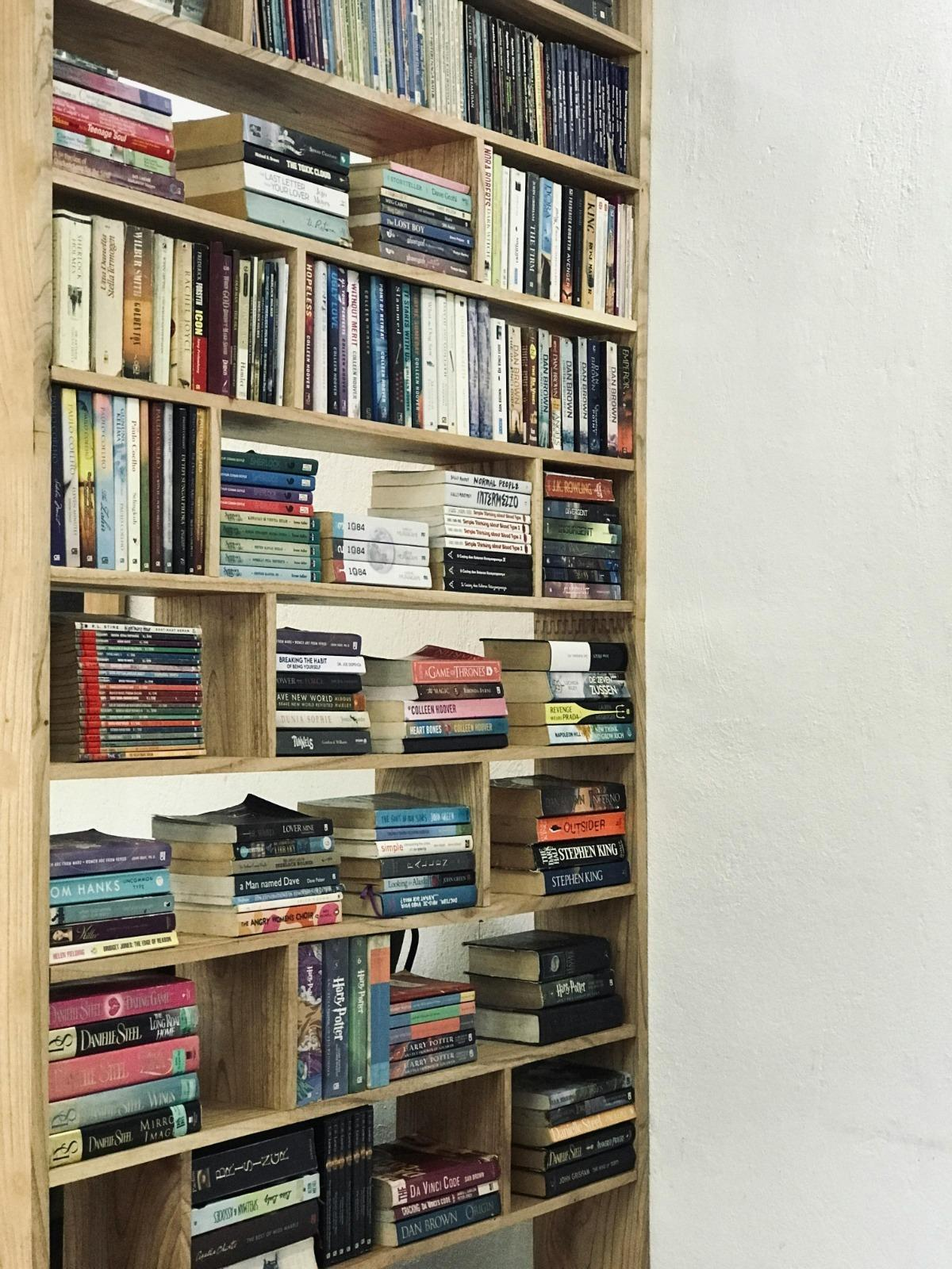book: (46, 1007, 197, 1063), (51, 212, 93, 372), (233, 115, 349, 172), (240, 159, 354, 215), (467, 970, 615, 1012), (464, 942, 611, 983), (154, 825, 335, 858), (303, 796, 470, 830), (90, 216, 125, 376), (174, 867, 342, 900), (370, 469, 531, 502), (293, 941, 324, 1109), (121, 224, 153, 380), (48, 869, 176, 905), (321, 936, 349, 1100), (57, 390, 80, 563), (75, 394, 98, 565), (368, 934, 393, 1090), (207, 241, 231, 399), (92, 394, 114, 565), (347, 934, 369, 1093), (150, 234, 173, 385), (322, 1107, 345, 1257), (173, 239, 195, 391), (112, 396, 130, 566), (176, 405, 195, 565), (125, 399, 142, 565), (234, 256, 253, 402), (190, 240, 208, 392), (354, 1106, 372, 1251), (149, 401, 165, 563), (312, 260, 329, 409), (326, 265, 343, 413), (193, 407, 208, 566), (161, 403, 175, 563), (421, 288, 437, 426), (508, 169, 525, 291), (302, 259, 315, 407), (618, 345, 634, 460), (605, 341, 620, 455), (481, 145, 493, 282), (491, 154, 503, 284)
